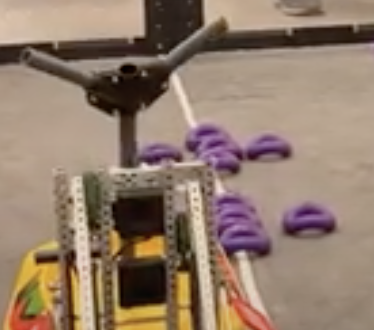ring: (282, 202, 337, 235), (220, 221, 270, 257), (184, 120, 228, 148), (215, 207, 263, 231), (247, 134, 293, 158), (195, 134, 243, 157), (198, 150, 241, 172), (212, 193, 254, 215), (137, 143, 182, 162)
